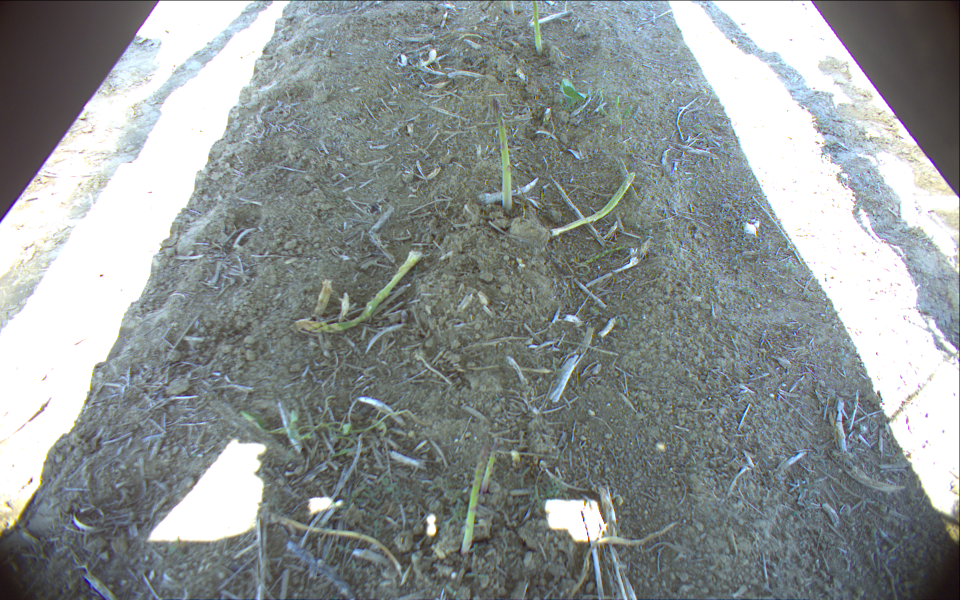aspa: (456, 441, 488, 557), (490, 96, 515, 212), (478, 439, 498, 496), (529, 1, 544, 54)
